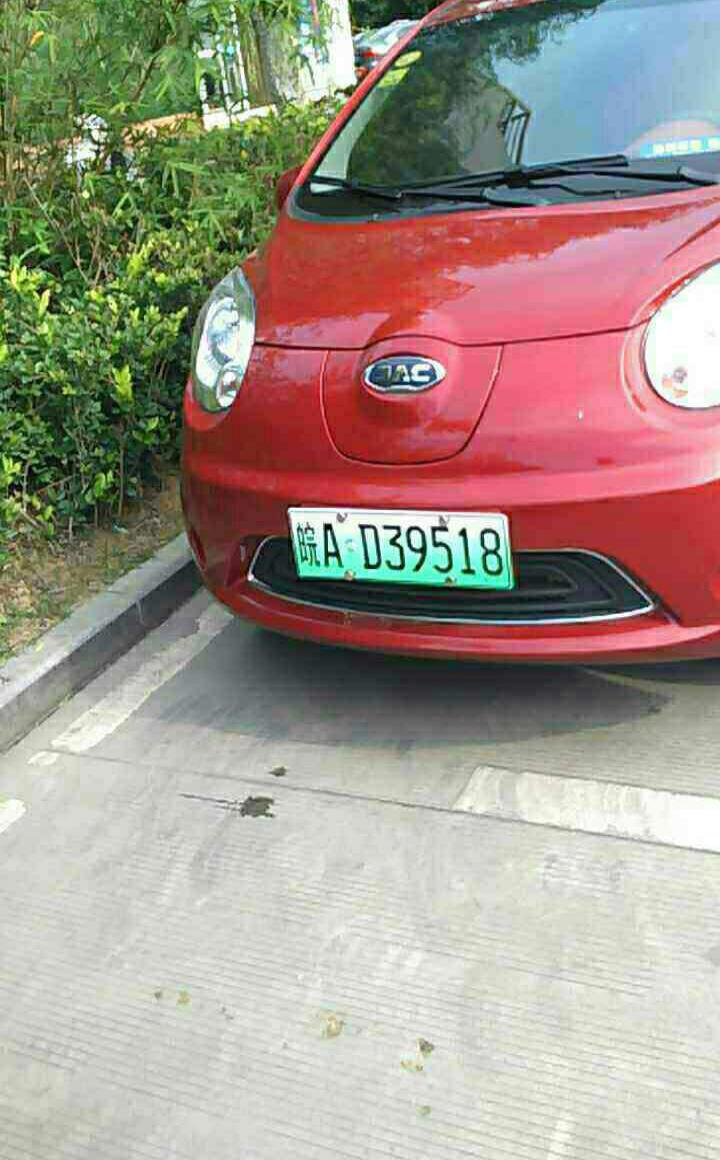car_id: (287, 506, 509, 589)
